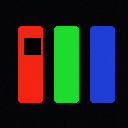1 square: (24, 38, 40, 54)
